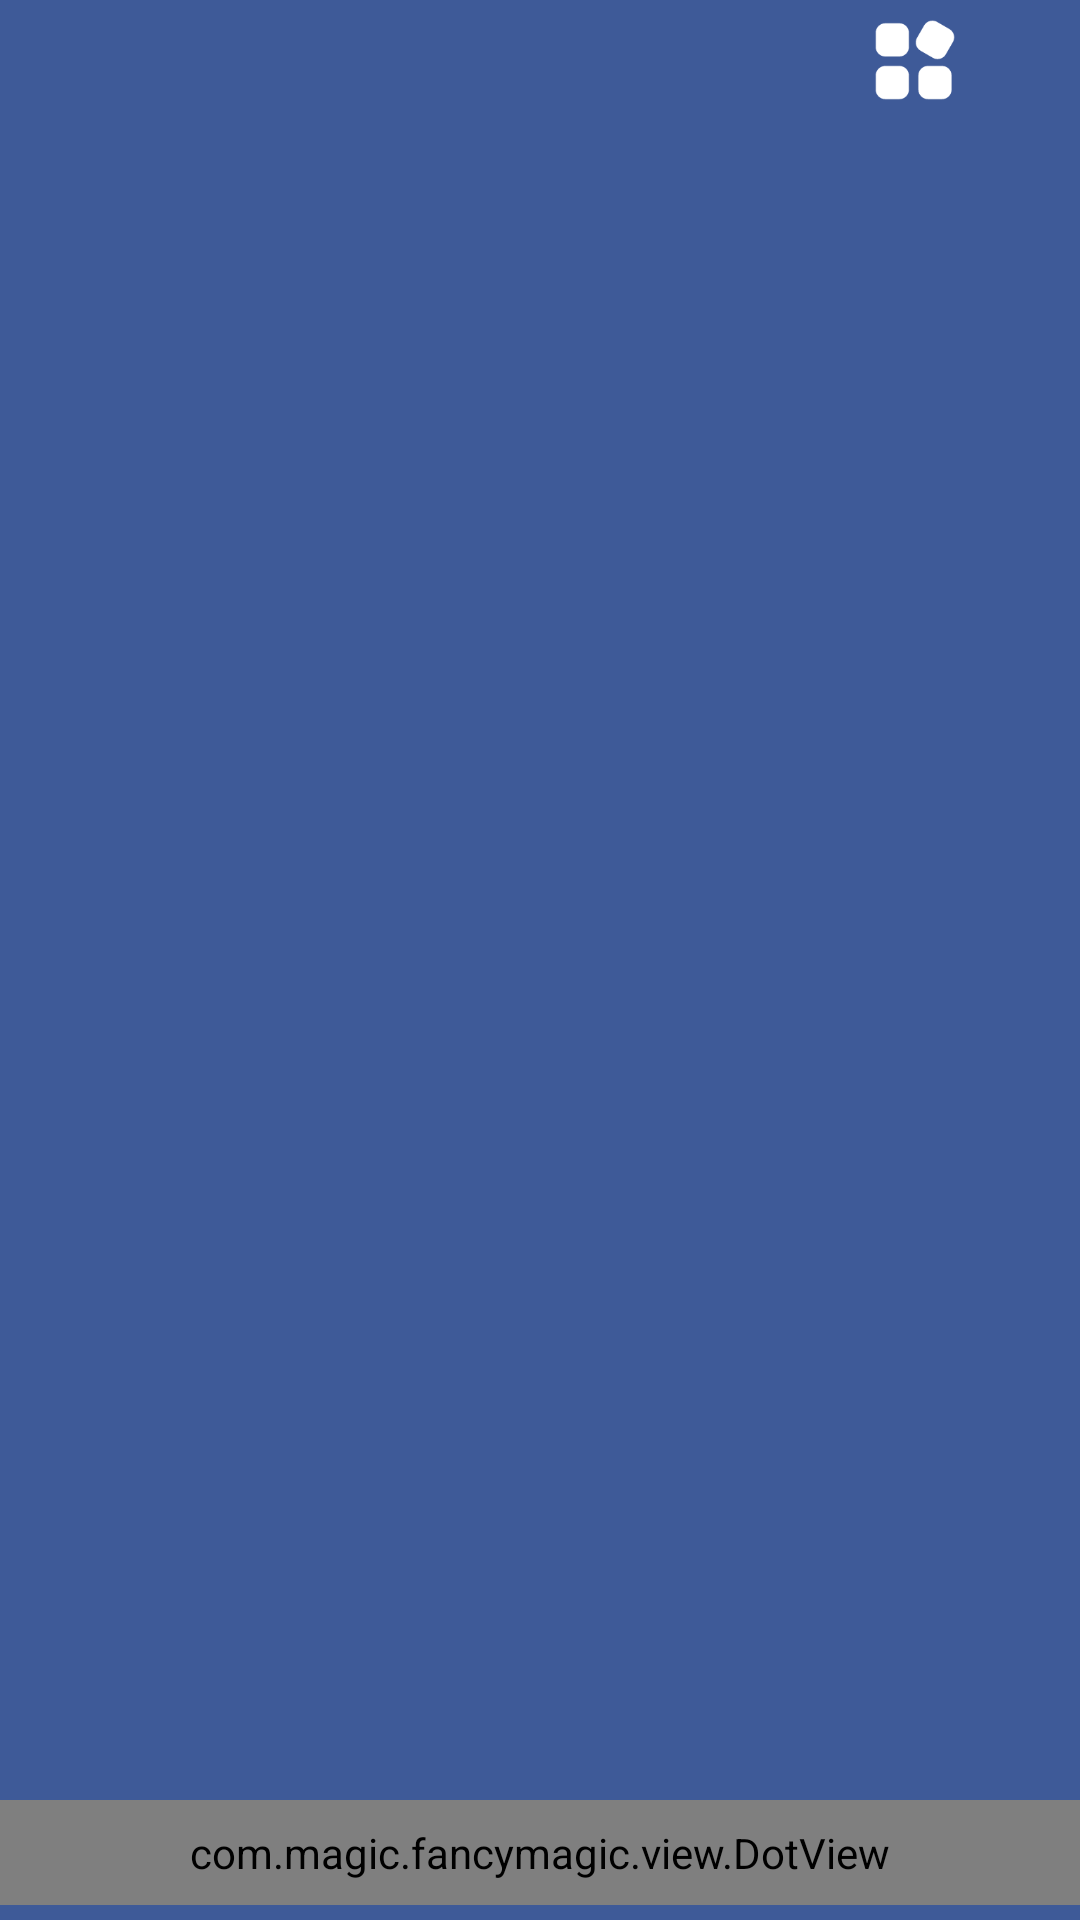

Screen size 1080*1920. Icon name, then its center in pixels as point (x, y):
more: point (915, 60)
